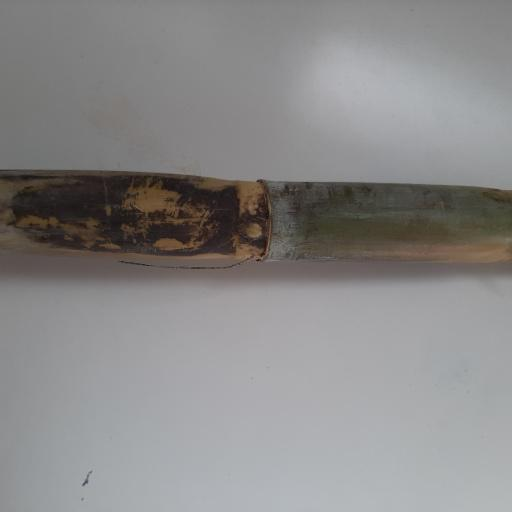Bud: (235, 215, 266, 243)
